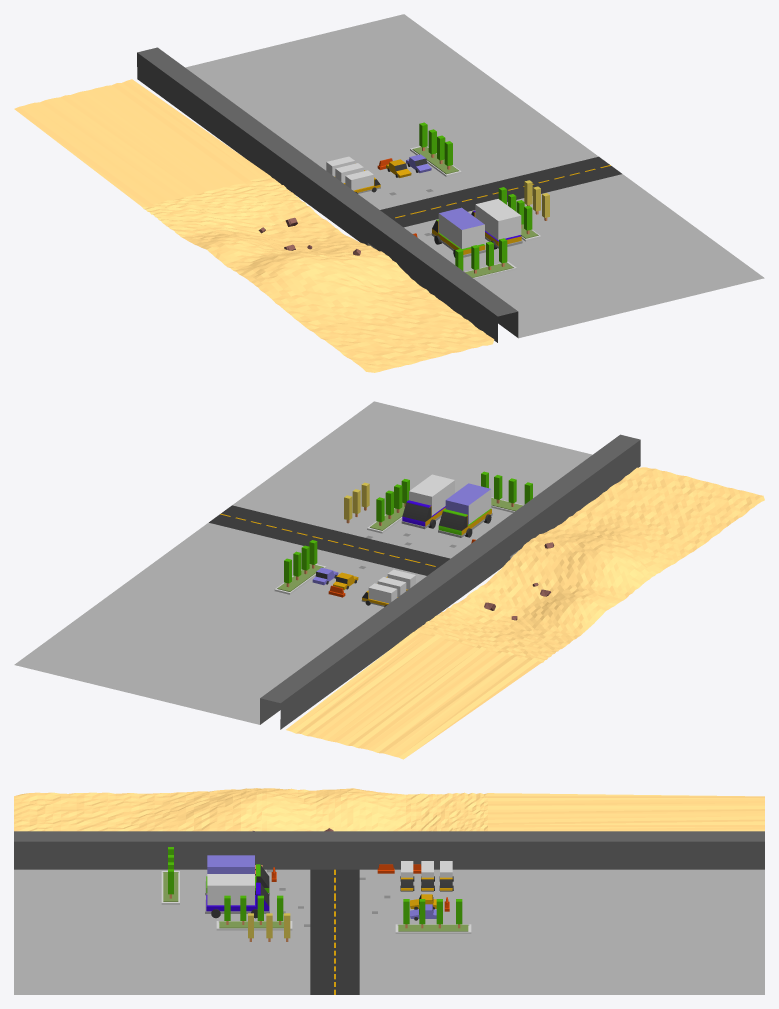
The model's file is Environment.fbx.
The picture shows the model from 3 angles, top to bottom: view 1: azimuth 30°, elevation 25°; view 2: azimuth 150°, elevation 25°; view 3: azimuth 270°, elevation 25°; orthographic projection. The views are drawn at different scales.
Visible parts, largest first — view 1: Environment, Wall1; view 2: Environment, Wall1; view 3: Environment, Wall1.
Part boxes in pixels (x1,y1,x2,y2): Environment: (14,14,764,372); Wall1: (137,47,518,342); Environment: (14,401,764,759); Wall1: (260,434,640,729); Environment: (14,788,764,994); Wall1: (14,831,764,869).
Size of the model in its own units: 76.96 by 7.63 by 122.
